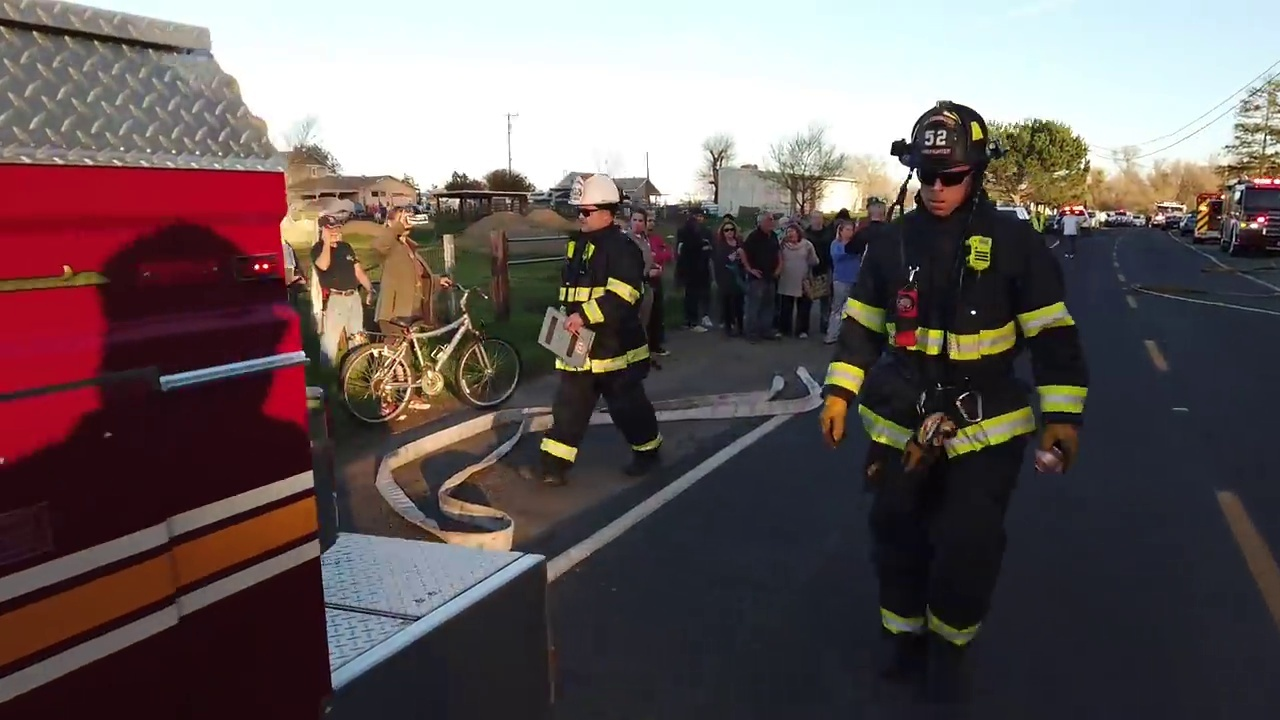fire: (1249, 214, 1269, 228)
smoke: (1080, 124, 1223, 218)
